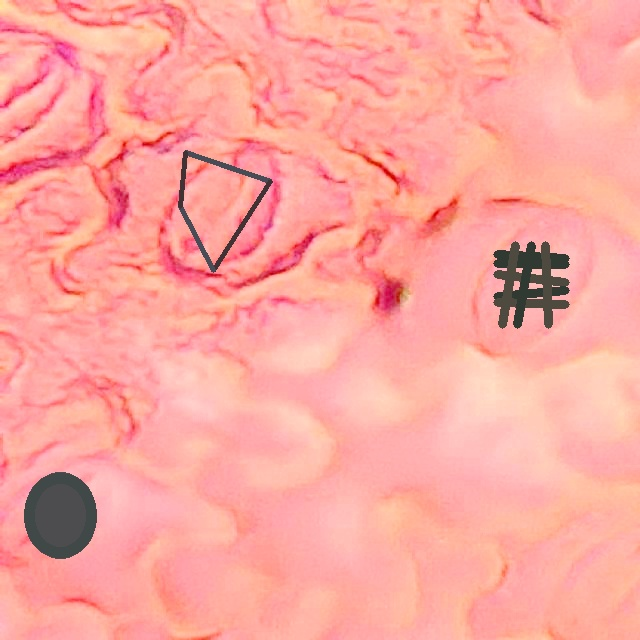close: (179, 150, 271, 272), (493, 241, 569, 328), (25, 472, 96, 558)
